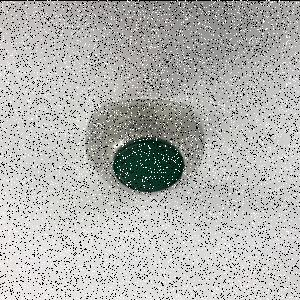Plastic-bottle: (86, 99, 206, 197)
